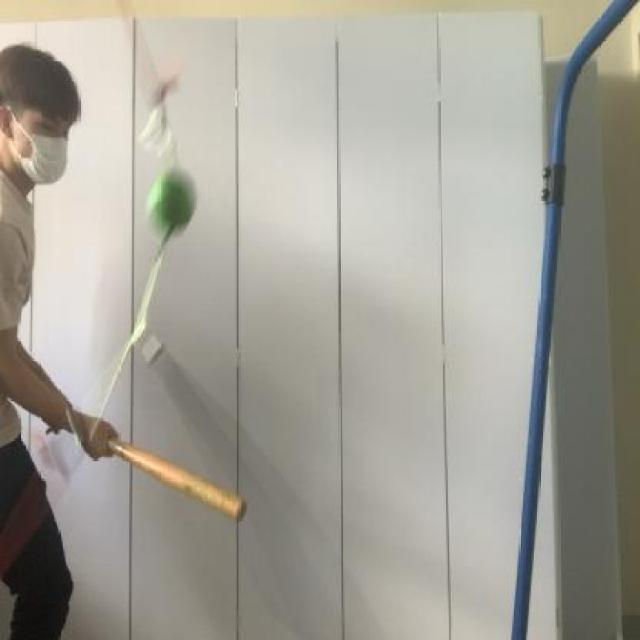baseball: (141, 157, 205, 240)
